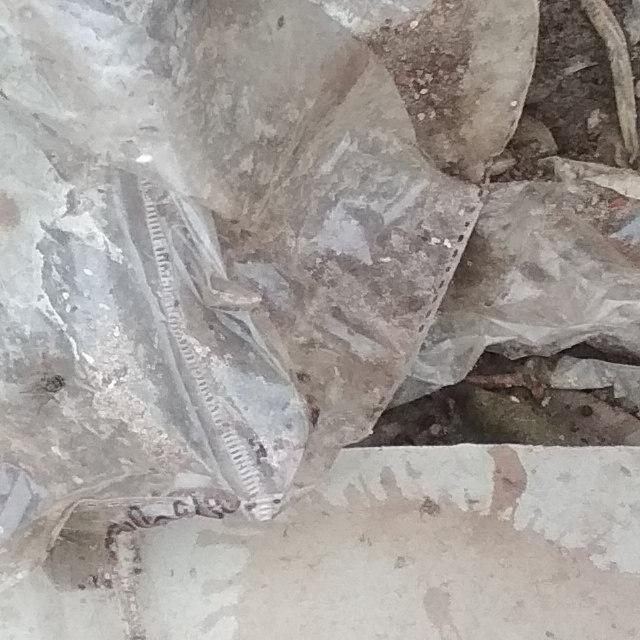paper: (84, 383, 640, 640)
plastic: (0, 0, 640, 640)
